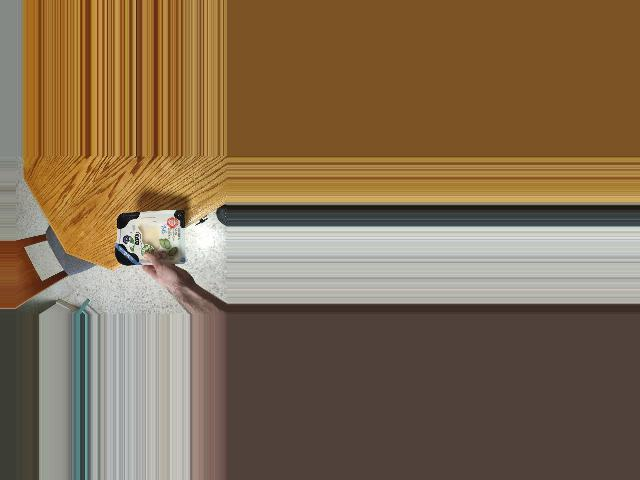cheese: (99, 210, 201, 267)
